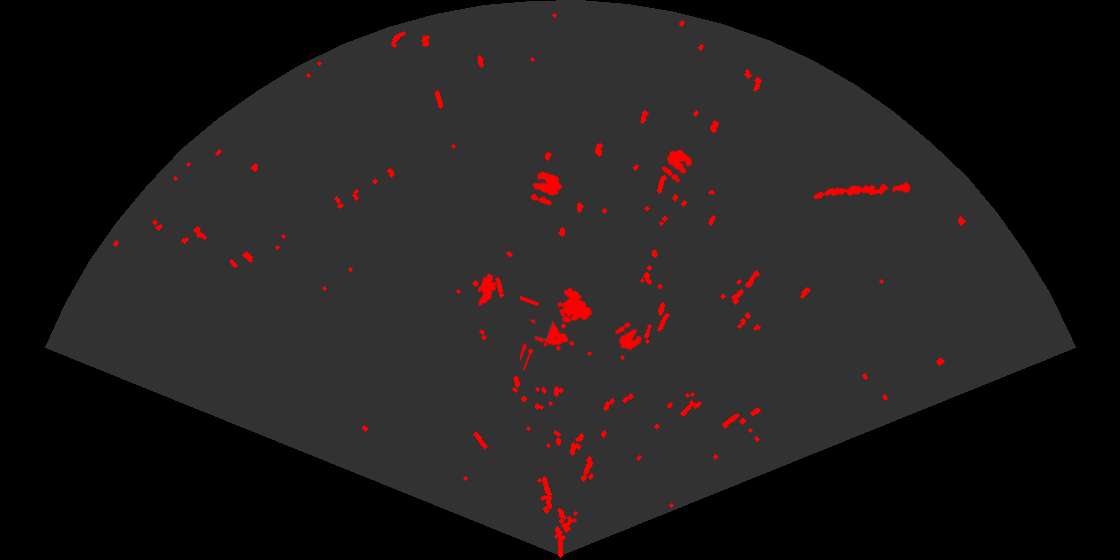AUV: (476, 272, 498, 308)
ball: (529, 170, 564, 207), (660, 148, 694, 182), (613, 321, 644, 352)
cage: (520, 286, 594, 370)
chain: (812, 180, 911, 201)
